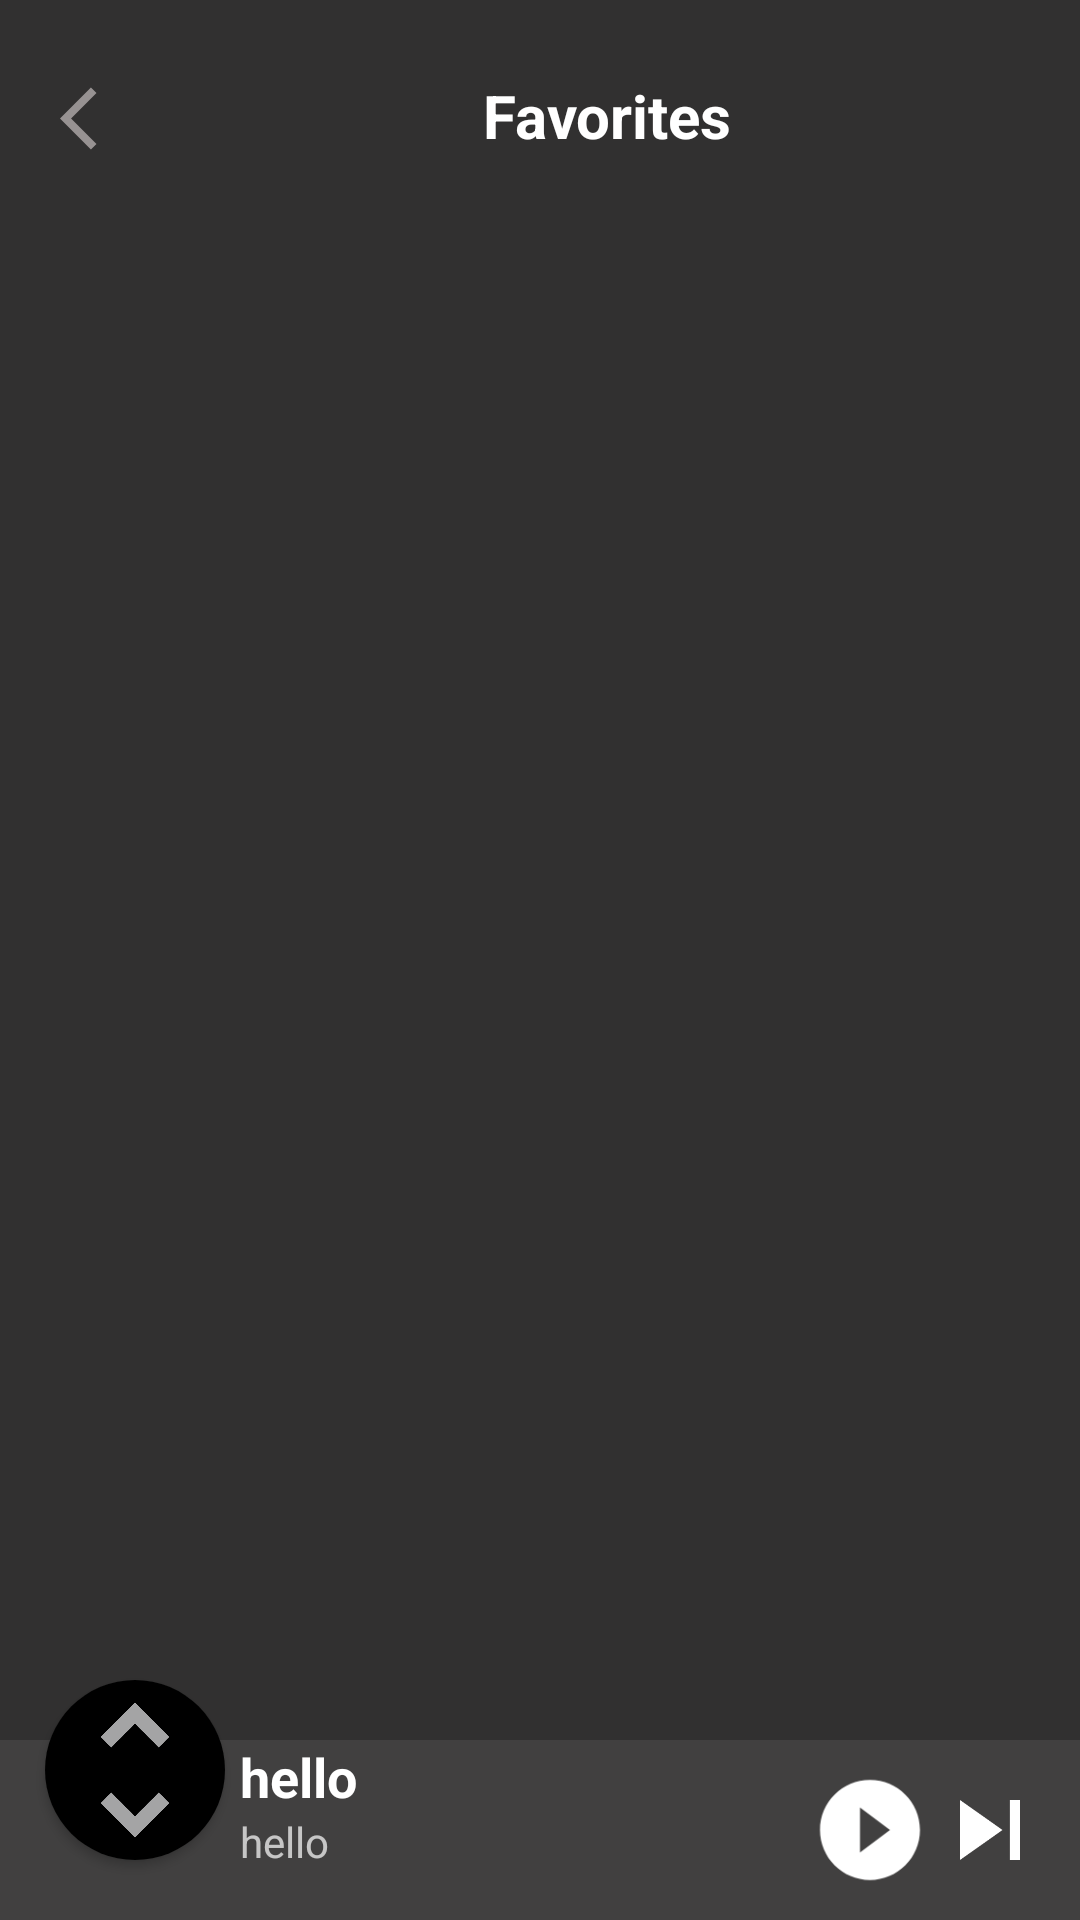

Locate icon controls on the screen. Image size 1080×1920, boxes as detection(x1, y1, x2, y2).
arrow back: detection(60, 88, 96, 149)
play circle: detection(819, 1779, 921, 1881)
skip next: detection(960, 1800, 1020, 1860)
unfold: detection(45, 1680, 225, 1860)
